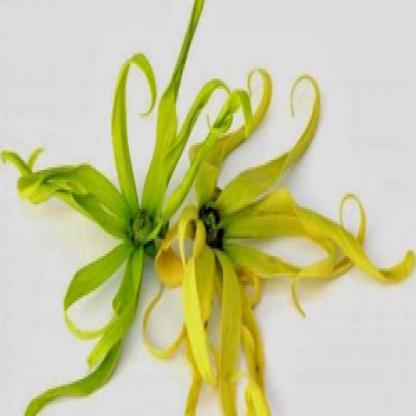Kenanga: (175, 126, 294, 346), (80, 83, 173, 303)
